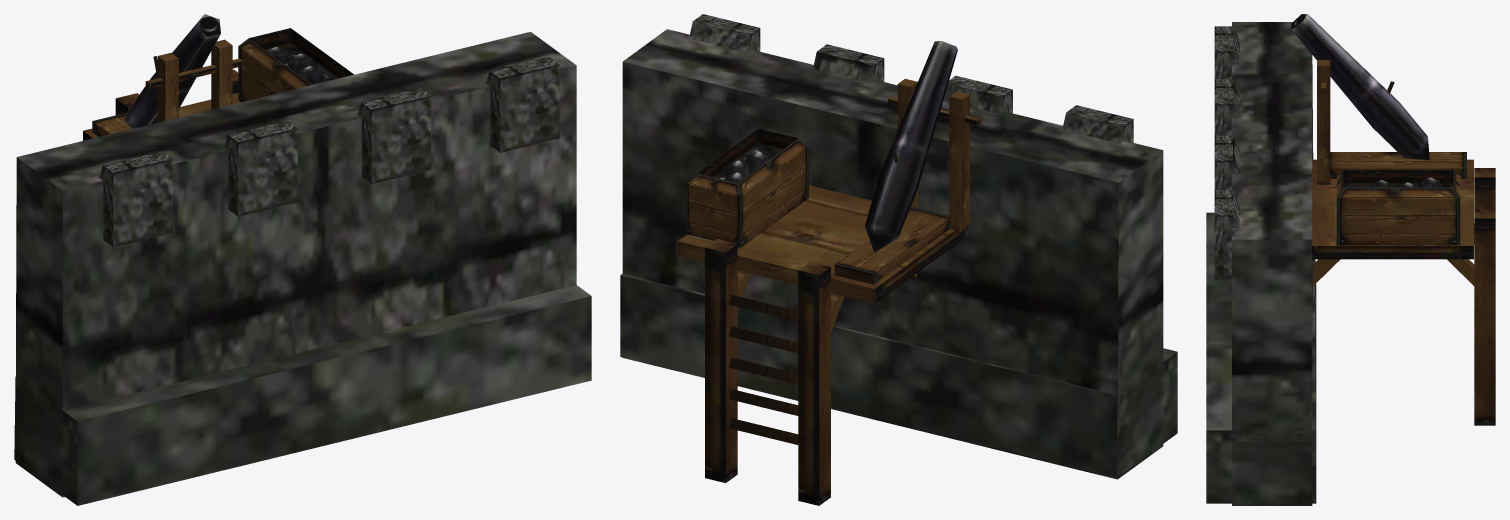
The picture shows the model from 3 angles, left to right: view 1: azimuth 30°, elevation 25°; view 2: azimuth 150°, elevation 25°; view 3: azimuth 270°, elevation 25°; orthographic projection. The views are drawn at different scales.
Visible parts, largest first — view 1: StoneWall03; view 2: StoneWall03; view 3: StoneWall03.
Part boxes in pixels (box(x1,y1,x2,y2)): StoneWall03: box(14, 14, 591, 505); StoneWall03: box(620, 14, 1177, 505); StoneWall03: box(1206, 14, 1495, 505).
Bounding box in the file's own units: 398 × 301 × 224.
